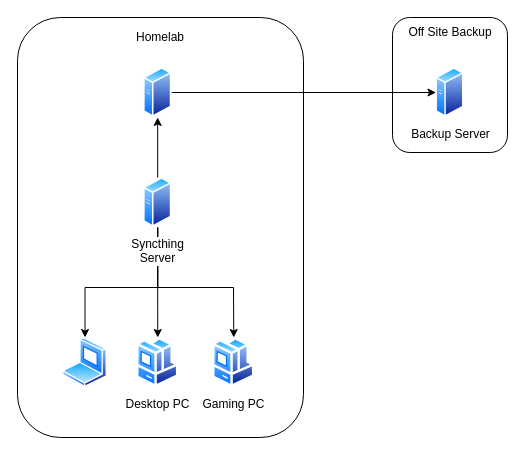
Image size: 525x455. Some labels were removed from this diagram. The box of each missing label's shape, as (x1, y1, x2, y2) in pixels:
Laptop: (62, 337, 107, 387)
NAS: (143, 67, 171, 117)
